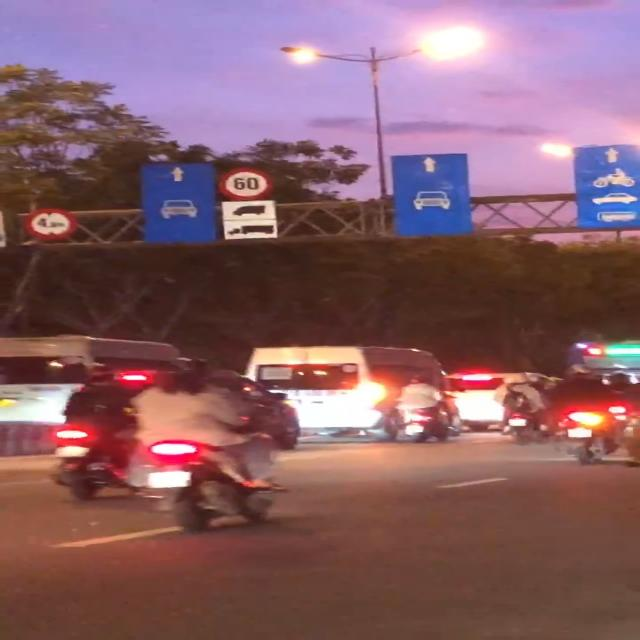Bien bao han che chieu cao: (20, 208, 81, 240)
Bien bao toc do toi da cho phep: (215, 163, 272, 201)
